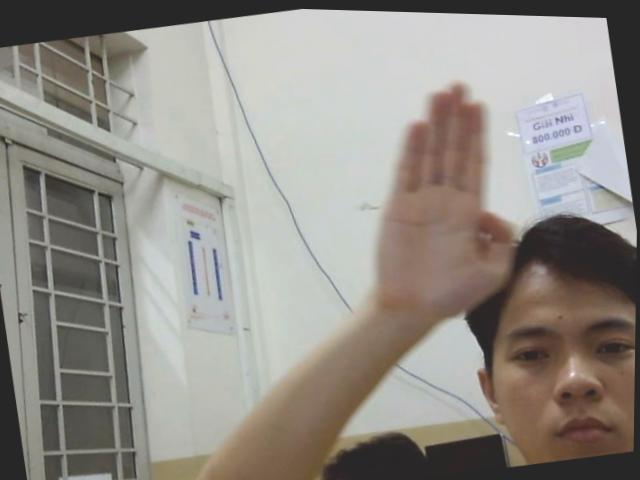B: (343, 72, 535, 332)
